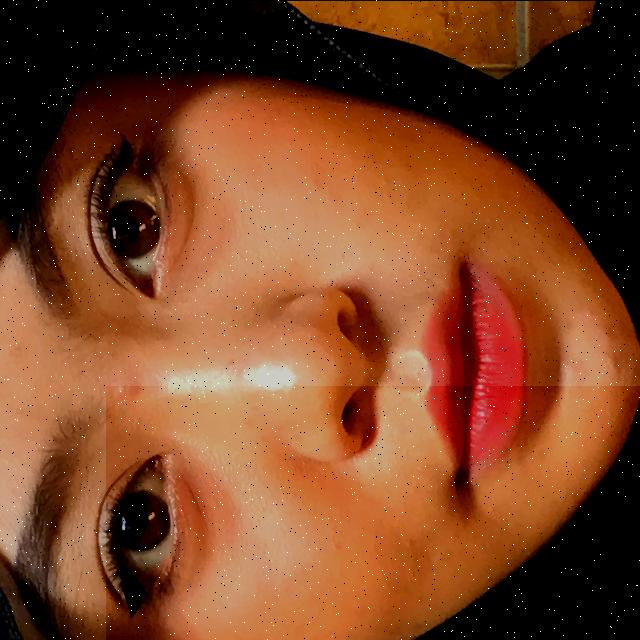ibu: (106, 385, 640, 640)
